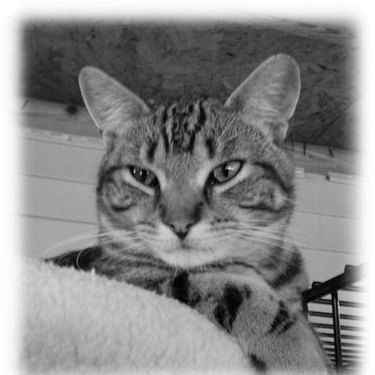cat: (77, 52, 339, 371)
